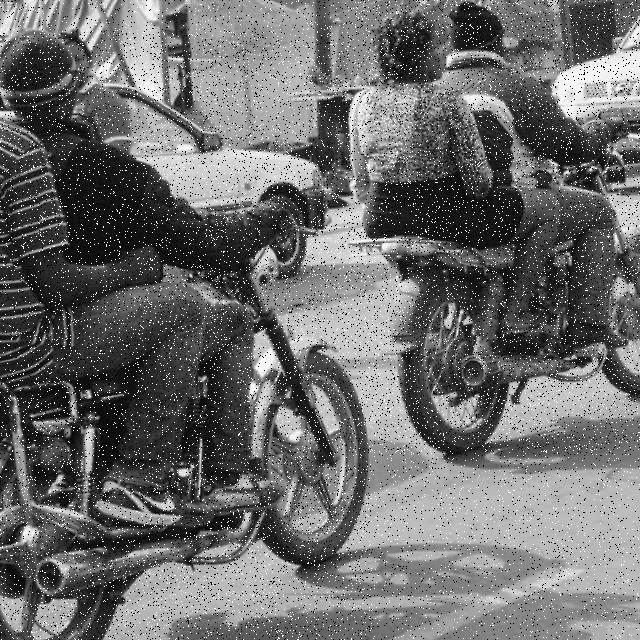Motorbike: (0, 31, 371, 640), (347, 0, 640, 455)
